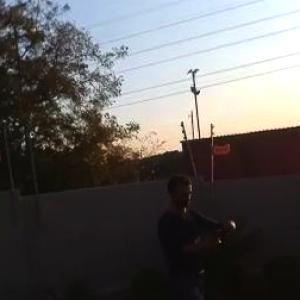follow: (150, 168, 246, 299)
